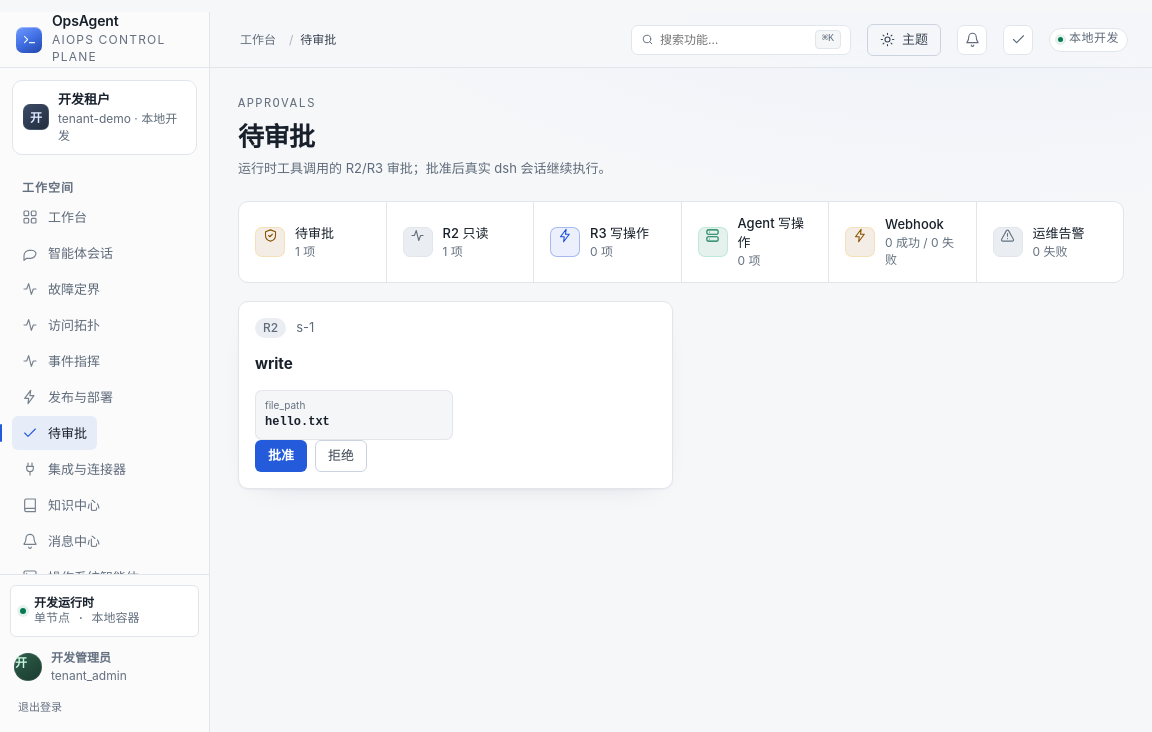
Approvals › lists pending approvals and approves one
Expected: the heading "write" is shown, x1=255 y1=354 x2=293 y2=373
Click the button "批准".
click(281, 456)  # box x1=255 y1=440 x2=307 y2=472
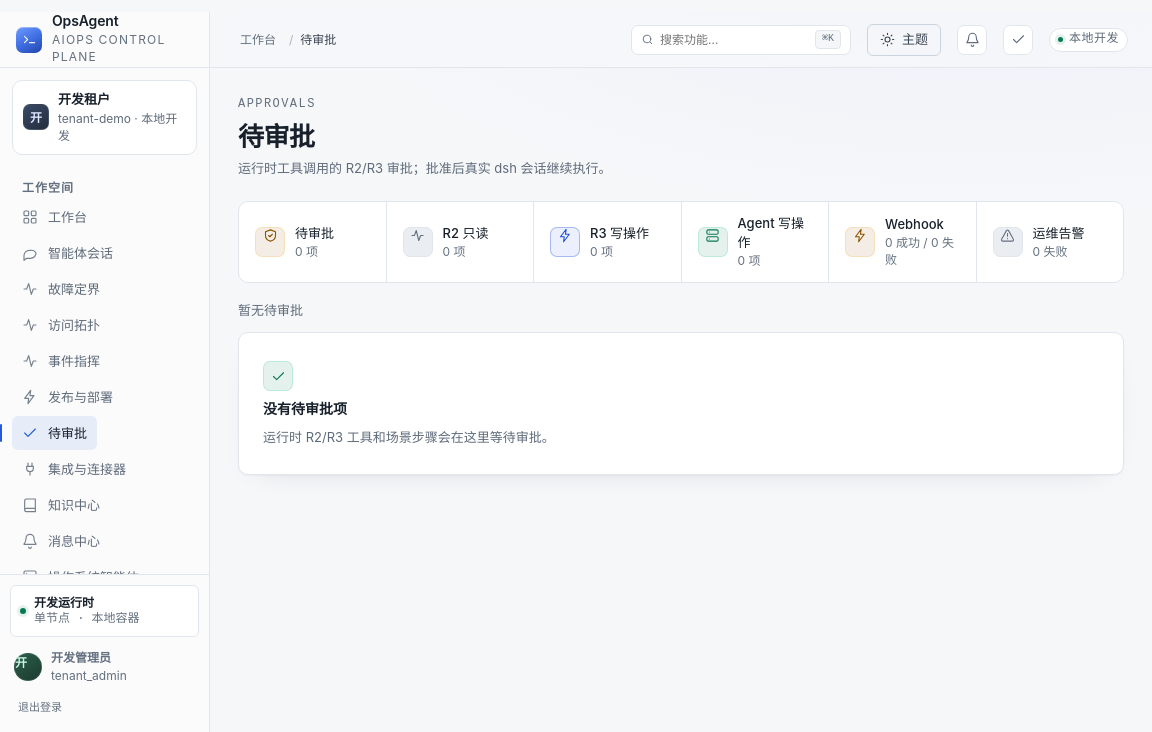
Result: the text "暂无待审批" is shown at x1=238 y1=302 x2=303 y2=318
